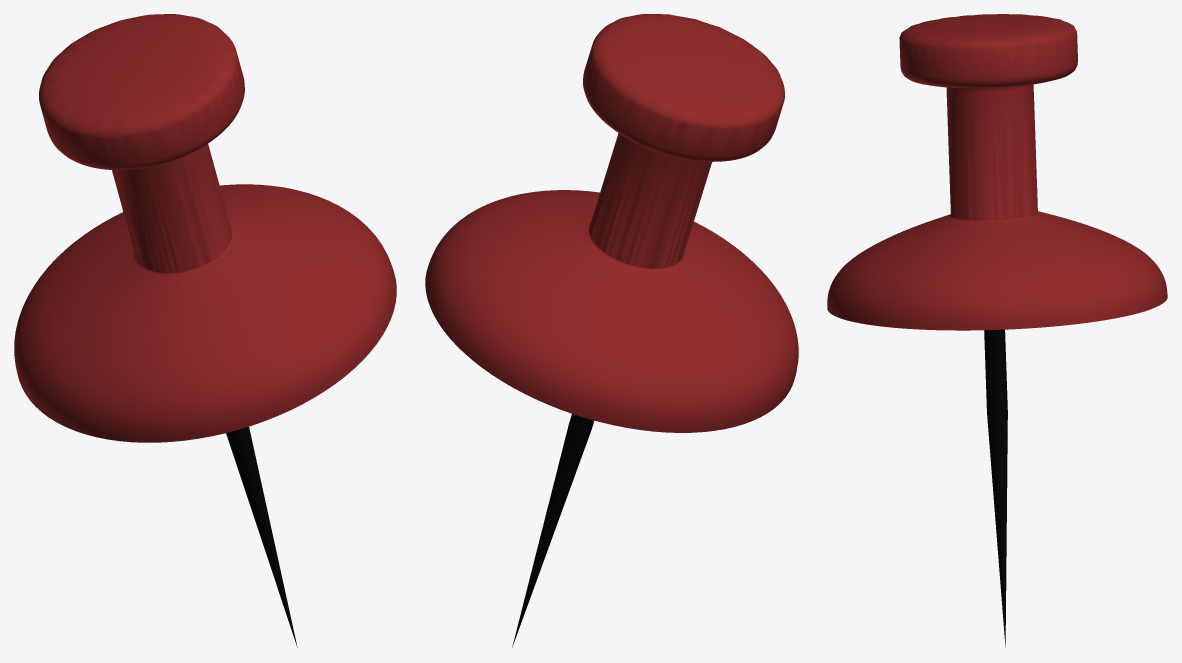
File: Pin_FBX.FBX
3 renders of one model, left to right at view 1: azimuth 30°, elevation 25°; view 2: azimuth 150°, elevation 25°; view 3: azimuth 270°, elevation 25°, orthographic. The views are drawn at different scales.
Visible parts, largest first — view 1: Cylinder, Cylinder_1; view 2: Cylinder, Cylinder_1; view 3: Cylinder, Cylinder_1.
Part boxes in pixels (x1=…): Cylinder: x1=14, y1=14, x2=396, y2=442; Cylinder_1: x1=226, y1=426, x2=297, y2=647; Cylinder: x1=425, y1=14, x2=798, y2=432; Cylinder_1: x1=512, y1=414, x2=594, y2=647; Cylinder: x1=827, y1=14, x2=1167, y2=330; Cylinder_1: x1=984, y1=329, x2=1007, y2=647.
Size of the model in its own units: 67.8 by 129 by 69.92.
